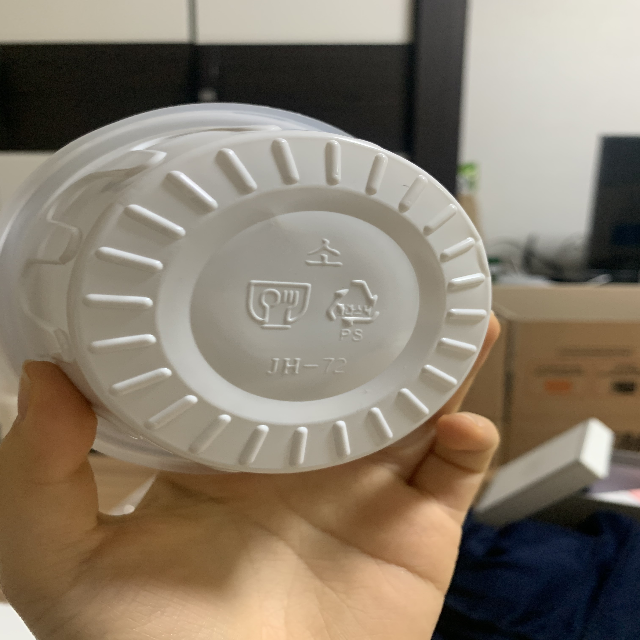ps: (326, 279, 386, 342)
